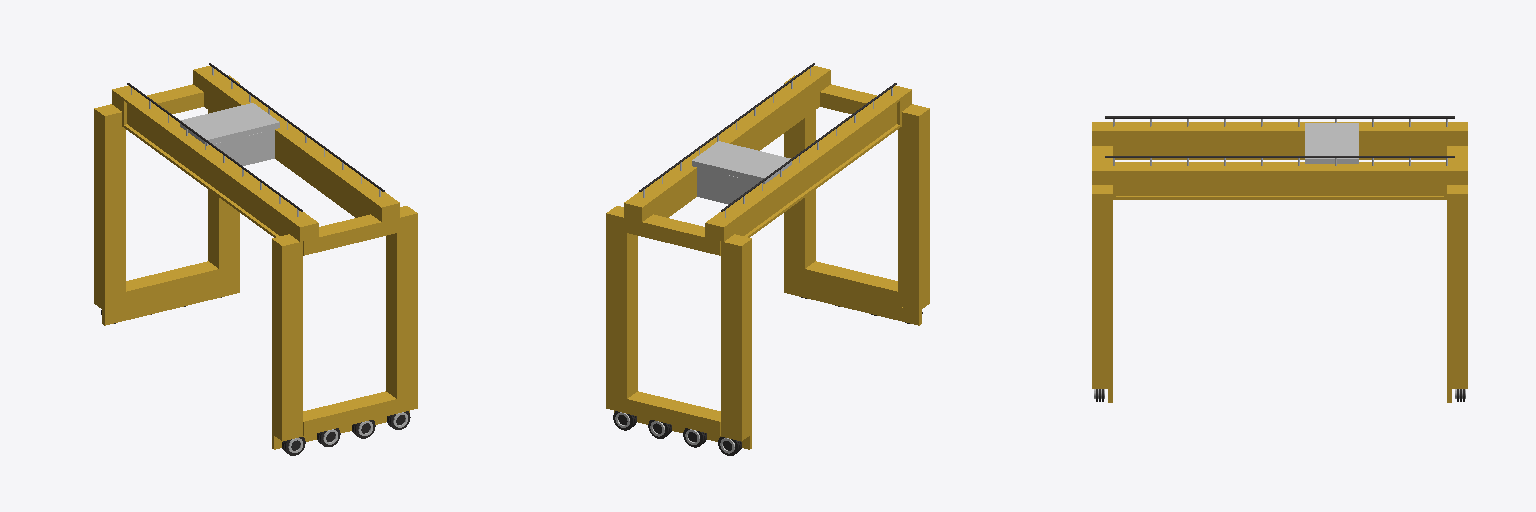
File: 龙门吊.obj
The picture shows the model from 3 angles: view 1: azimuth 30°, elevation 25°; view 2: azimuth 150°, elevation 25°; view 3: azimuth 270°, elevation 25°; orthographic projection.
Parts seen in each view (by area): view 1: 立方体.1, 立方体.2, 圆柱.1; view 2: 立方体.1, 立方体.2, 圆柱.1; view 3: 立方体.1, 立方体.2, 圆柱.1.
Part boxes in pixels (bbox=[...]): 立方体.1: bbox=[94, 66, 417, 449]; 立方体.2: bbox=[180, 103, 279, 165]; 圆柱.1: bbox=[127, 63, 384, 211]; 立方体.1: bbox=[606, 66, 929, 449]; 立方体.2: bbox=[692, 141, 791, 204]; 圆柱.1: bbox=[639, 63, 896, 211]; 立方体.1: bbox=[1092, 122, 1467, 402]; 立方体.2: bbox=[1305, 123, 1358, 163]; 圆柱.1: bbox=[1105, 116, 1454, 157].
Bounding box in the file's own units: 11.91 × 20.09 × 28.7.